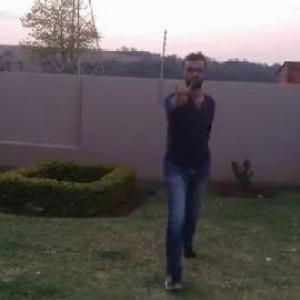takeoff-hand: (166, 76, 196, 111)
